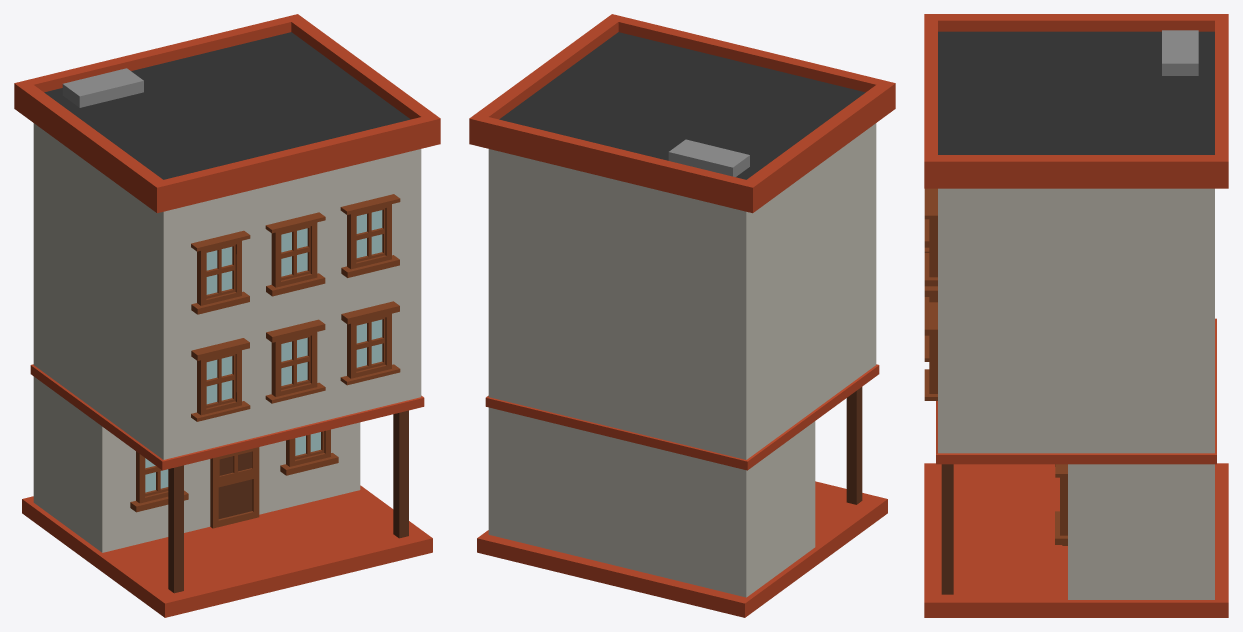
File: flat-2.glb
3 views of the same model, side by side, from view 1: azimuth 30°, elevation 25°; view 2: azimuth 150°, elevation 25°; view 3: azimuth 270°, elevation 25° (orthographic). The views are drawn at different scales.
Bounding box in the file's own units: 2.17 × 3.17 × 1.89.
